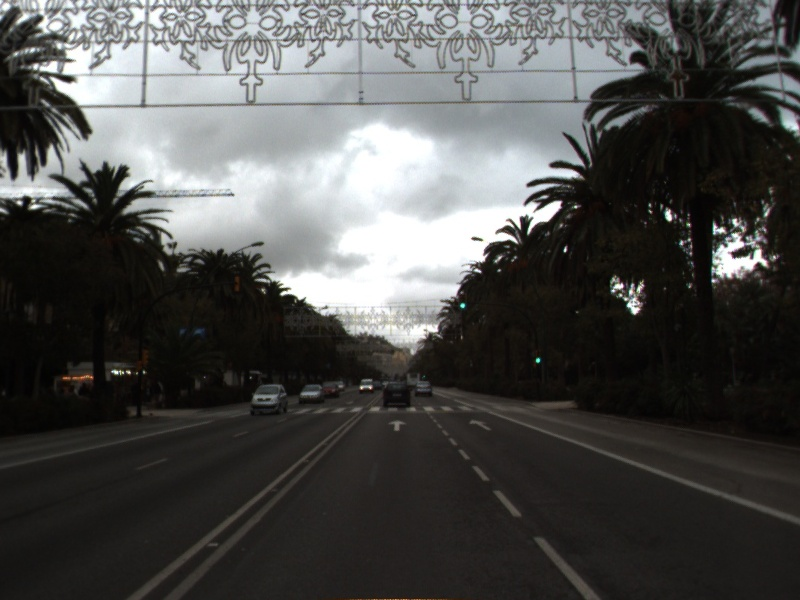STRAIGHT: (466, 417, 494, 433), (386, 418, 409, 433)
